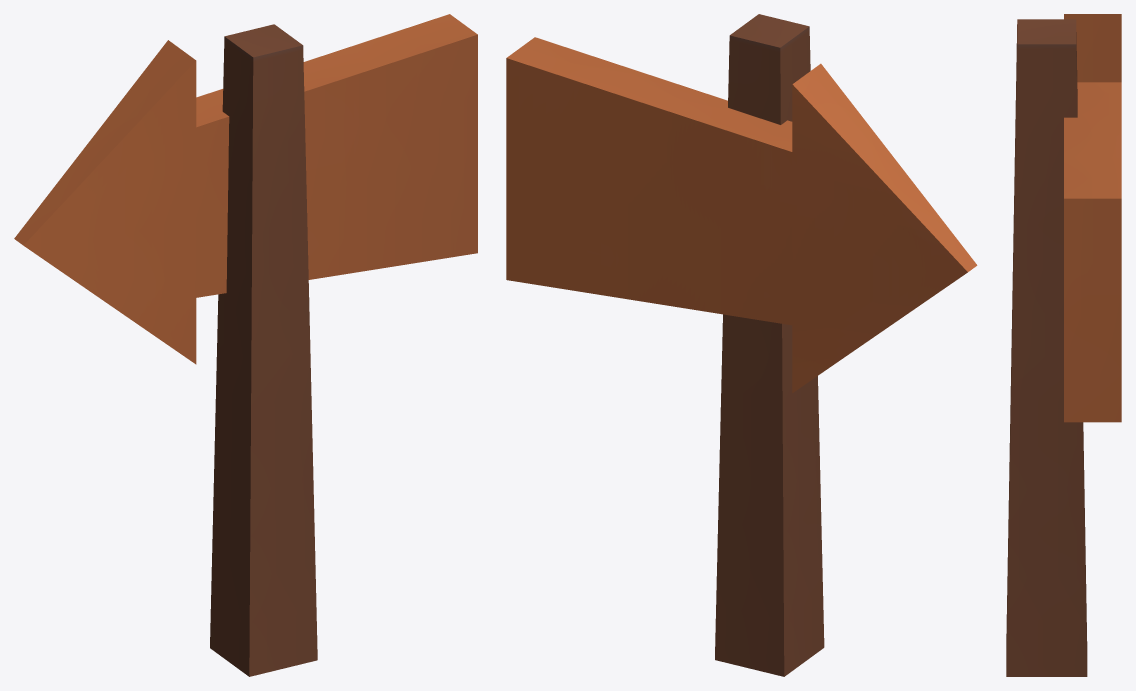
Rendered from arrow.glb.
3 views of the same model, side by side, from view 1: azimuth 30°, elevation 25°; view 2: azimuth 150°, elevation 25°; view 3: azimuth 270°, elevation 25° (orthographic). The views are drawn at different scales.
Parts seen in each view (by area): view 1: arrow; view 2: arrow; view 3: arrow.
Part boxes in pixels (<box>): arrow: <box>14,14,477,676</box>; arrow: <box>506,14,977,676</box>; arrow: <box>1006,14,1121,676</box>.
Bounding box in the file's own units: 0.4557 × 0.6 × 0.0998.
Materials: 1 (1 with a texture image).
